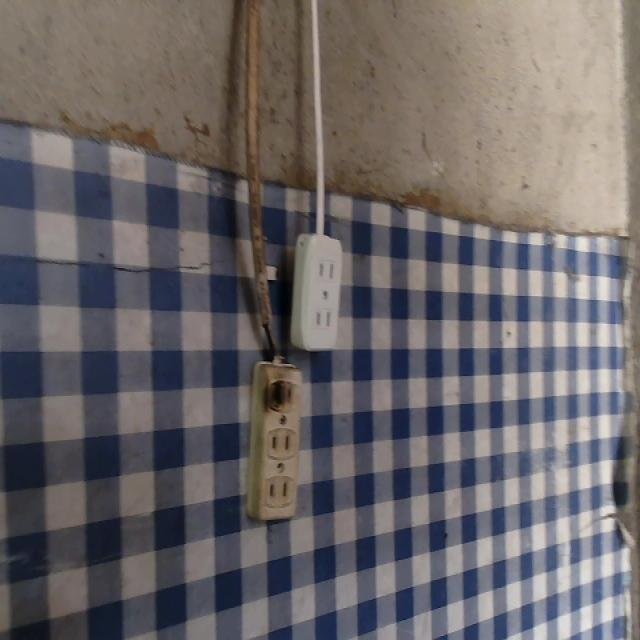-: (263, 368, 286, 421)
